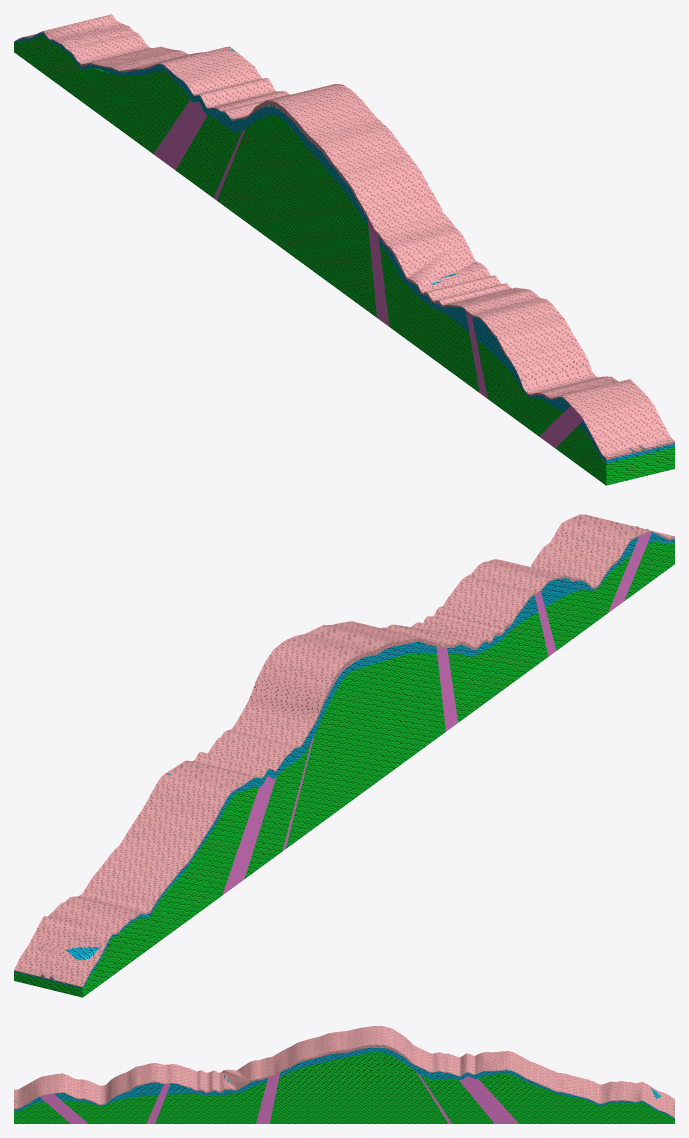
The model's file is BLS.obj.
3 renders of one model, top to bottom at view 1: azimuth 30°, elevation 25°; view 2: azimuth 150°, elevation 25°; view 3: azimuth 270°, elevation 25°, orthographic. The views are drawn at different scales.
Parts seen in each view (by area): view 1: 2, 0, 1, fractures; view 2: 2, 0, 1, fractures; view 3: 0, 2, 1, fractures.
Boxes of the visible parts, x1,y1,x2,y2 form: 2: [14, 14, 674, 459]; 0: [14, 34, 674, 485]; 1: [14, 32, 674, 463]; fractures: [153, 100, 583, 448]; 2: [14, 514, 674, 987]; 0: [14, 541, 674, 997]; 1: [14, 532, 674, 988]; fractures: [222, 532, 651, 895]; 0: [14, 1051, 674, 1123]; 2: [14, 1026, 674, 1117]; 1: [14, 1047, 674, 1118]; fractures: [39, 1072, 518, 1123].
Bounding box in the file's own units: 200 × 395 × 2981.
Materials: 5 (4 with a texture image).
